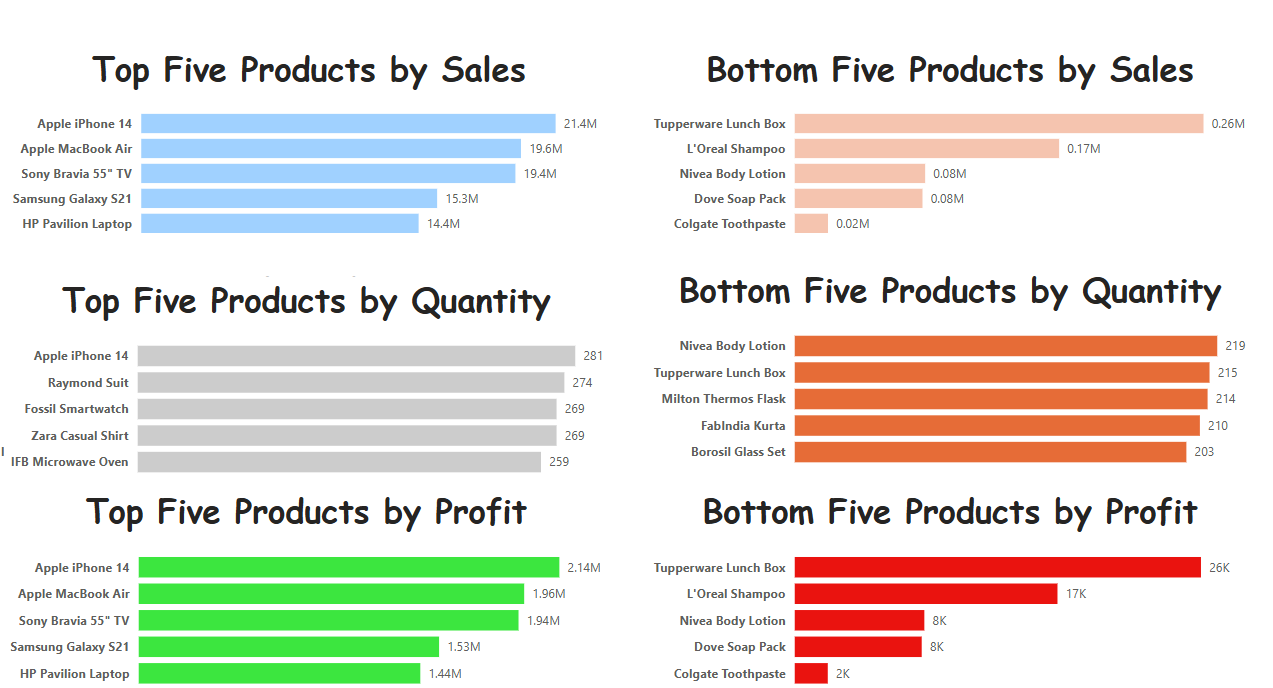

This screenshot's page, from the dashboard's own definition file:
{"tool":"powerbi","page":{"name":"Top/Bottom 5 analysis","canvas":[1280,720],"ordinal":0},"visuals":[{"type":"barChart","title":"Top Five Products by Sales","fields":{"Category":["Dim Product.Product Name"],"Y":["Sum(Fact Table.Net Sales)"]},"box":[12.8,78.4,591.5,199.6],"z":0},{"type":"barChart","title":"Bottom Five Products by Sales","fields":{"Category":["Dim Product.Product Name"],"Y":["Sum(Fact Table.Net Sales)"]},"box":[640,78.4,591.5,199.6],"z":1000},{"type":"barChart","title":"Top Five Products by Quantity","fields":{"Category":["Dim Product.Product Name"],"Y":["Sum(Fact Table.Units Sold)"]},"box":[0,295.1,591.5,208.1],"z":2000},{"type":"barChart","title":"Bottom Five Products by Quantity","fields":{"Category":["Dim Product.Product Name"],"Y":["Sum(Fact Table.Units Sold)"]},"box":[640,295.1,591.5,208.1],"z":3000},{"type":"barChart","title":"Top Five Products by Quantity","fields":{"Category":["Dim Product.Product Name"],"Y":["Sum(Fact Table.Units Sold)"]},"box":[10,305.1,591.5,208.1],"z":4000},{"type":"barChart","title":"Top Five Products by Profit","fields":{"Category":["Dim Product.Product Name"],"Y":["Sum(Fact Table.Profit)"]},"box":[10,511.7,591.5,208.1],"z":5000},{"type":"barChart","title":"Bottom Five Products by Profit","fields":{"Category":["Dim Product.Product Name"],"Y":["Sum(Fact Table.Profit)"]},"box":[640,511.7,591.5,208.1],"z":6000}]}

Visuals, with their boxes on the page's 1280x720 design canvas (x1, y1, x2, y2). These are canvas units, not pixel positions in the 1273x688 screenshot, which may show the page scaled, cropped or inside an application window:
"Top Five Products by Sales" barChart: bbox=[13, 78, 604, 278]
"Bottom Five Products by Sales" barChart: bbox=[640, 78, 1232, 278]
"Top Five Products by Quantity" barChart: bbox=[0, 295, 592, 503]
"Bottom Five Products by Quantity" barChart: bbox=[640, 295, 1232, 503]
"Top Five Products by Quantity" barChart: bbox=[10, 305, 602, 513]
"Top Five Products by Profit" barChart: bbox=[10, 512, 602, 720]
"Bottom Five Products by Profit" barChart: bbox=[640, 512, 1232, 720]
